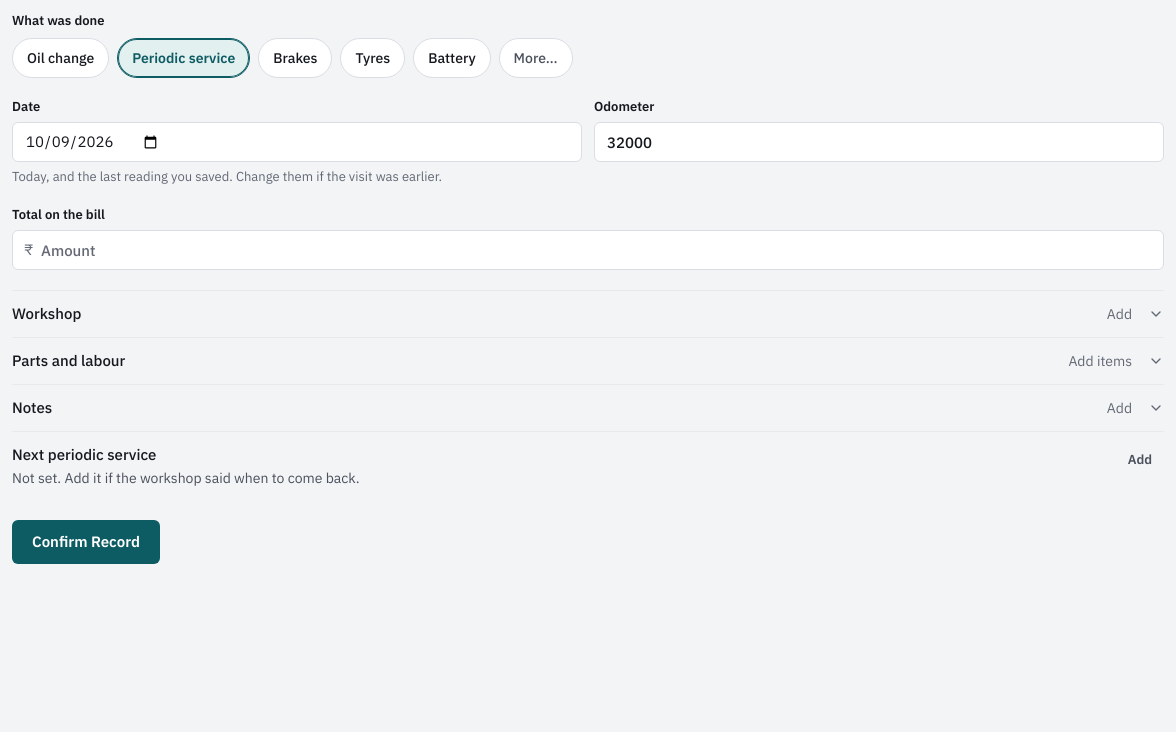
Scenario: MaintenanceForm › starts a new record on today at the current reading, with the total empty
expect the number field labelled "Odometer" holds "32000": met, box [594,122,1164,162]
expect the text "Today, and the last reading you saved. Change them if the visit was earlier." is shown: met, box [12,168,442,185]
Type "900" into the field labelled "Total on the bill".
click(588, 250); type("900")  # box [12,230,1164,270]
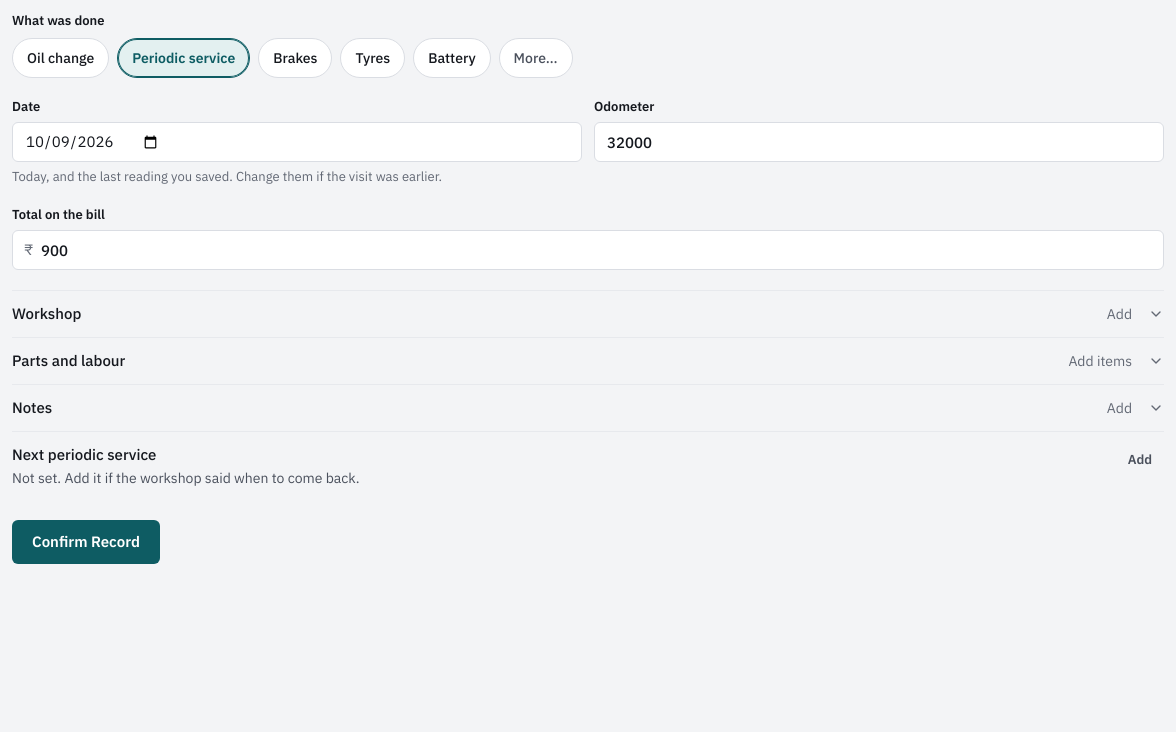
expect the text "Today, and the last reading you saved" is shown: met, box [12,168,442,185]
Replace the text in the number field labelled "Odometer" with "32100" at coordinates (879, 142), box [594,122,1164,162]
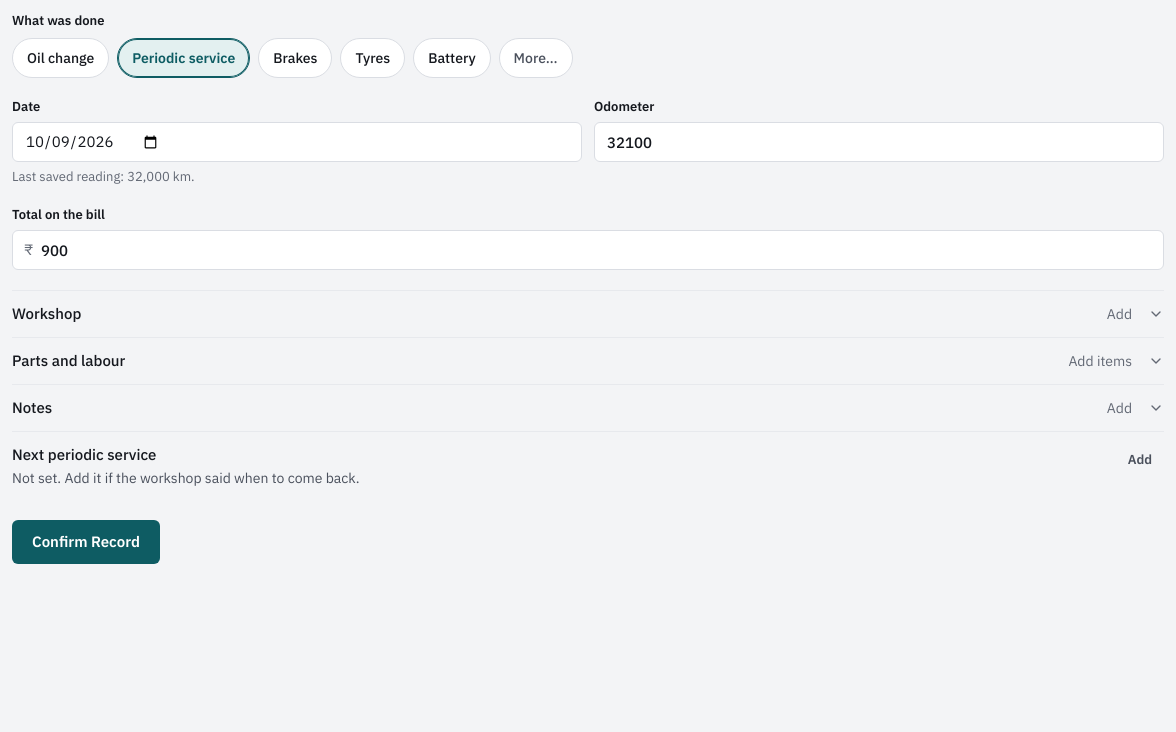
expect the text "Last saved reading: 32,000 km." is shown: met, box [12,168,194,185]
